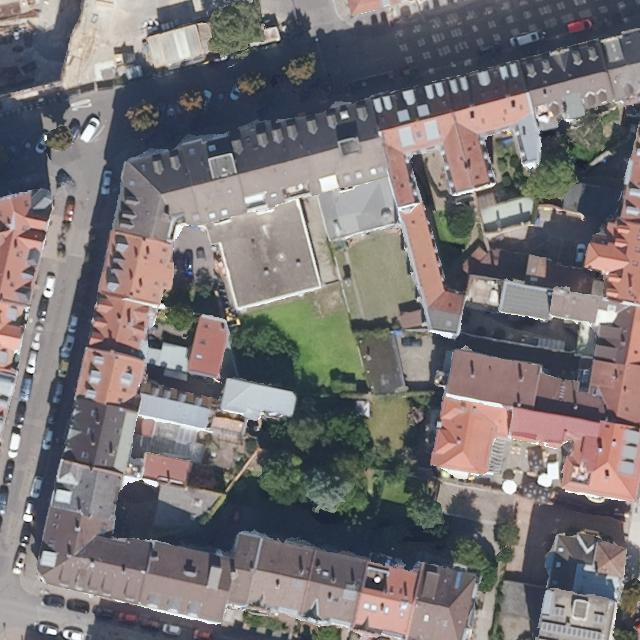PV: (540, 622, 604, 639), (553, 606, 565, 621)
